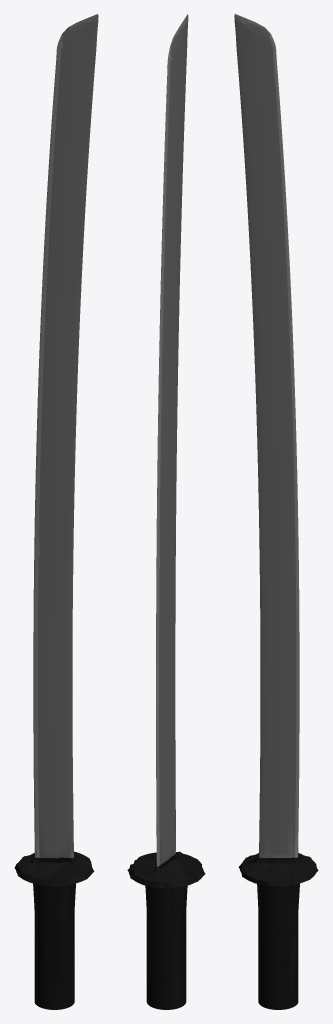
File: digital_saber_normal.obj
The picture shows the model from 3 angles, left to right: view 1: azimuth 90°, elevation 25°; view 2: azimuth 150°, elevation 25°; view 3: azimuth 270°, elevation 25°; orthographic projection.
Parts seen in each view (by area): view 1: Katana; view 2: Katana; view 3: Katana.
Part boxes in pixels (bbox=[...]): Katana: bbox=[14, 14, 98, 1009]; Katana: bbox=[127, 14, 205, 1009]; Katana: bbox=[234, 14, 318, 1009].
Size of the model in its own units: 0.1424 by 1.95 by 0.1508.
